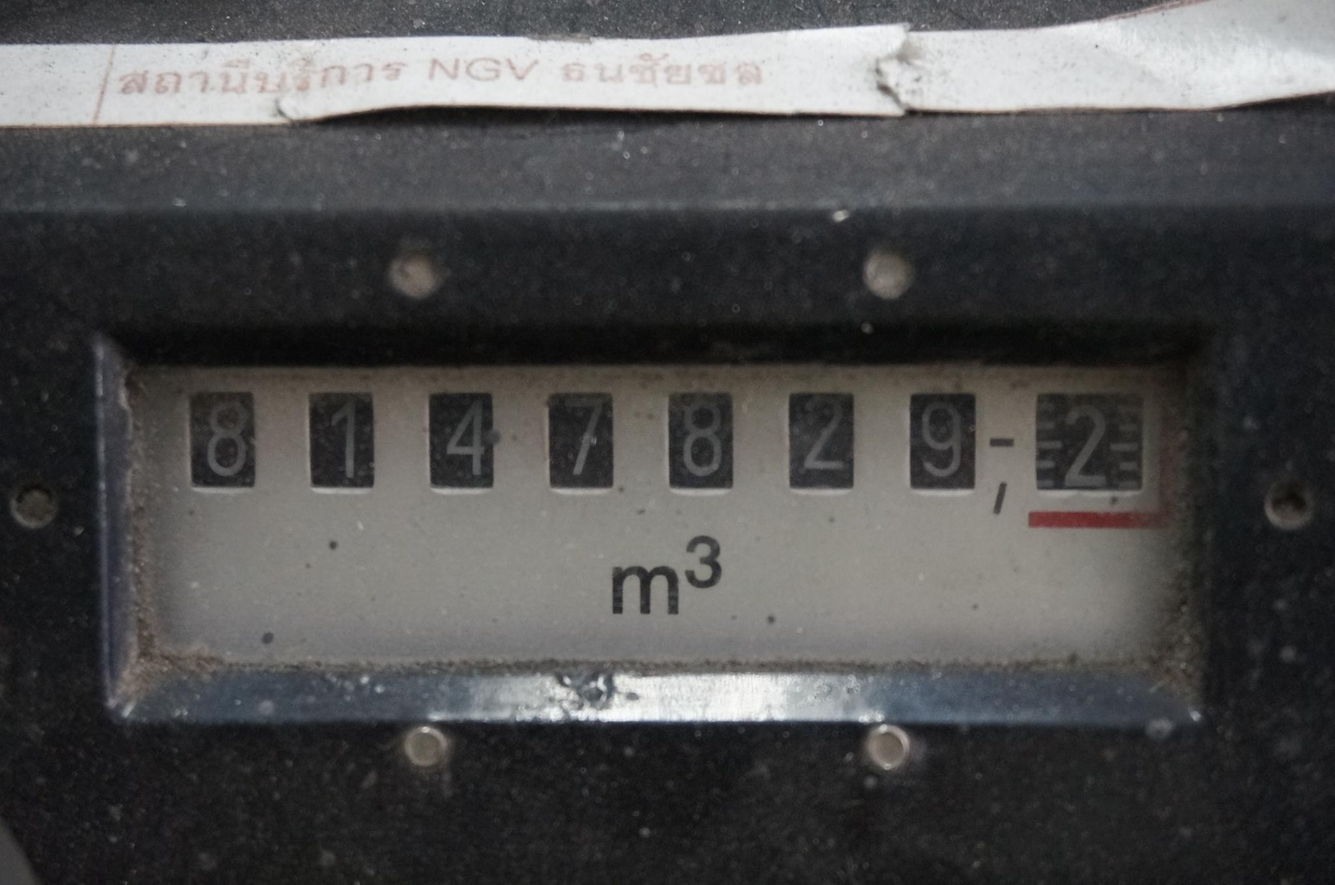analog_dial: (134, 363, 1195, 669)
